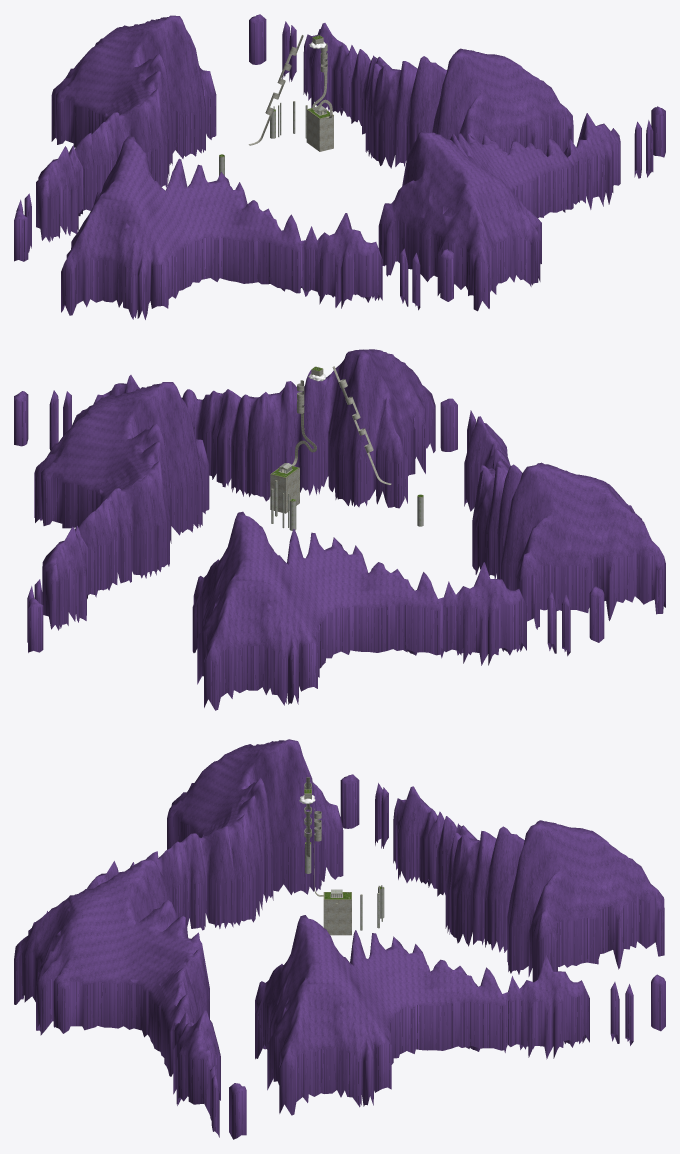
The model's file is CloudTemple.obj.
The picture shows the model from 3 angles, top to bottom: view 1: azimuth 30°, elevation 25°; view 2: azimuth 150°, elevation 25°; view 3: azimuth 270°, elevation 25°; orthographic projection. The views are drawn at different scales.
Bounding box in the file's own units: 46648 × 13794 × 40389.
Materials: 8 (8 with a texture image).
